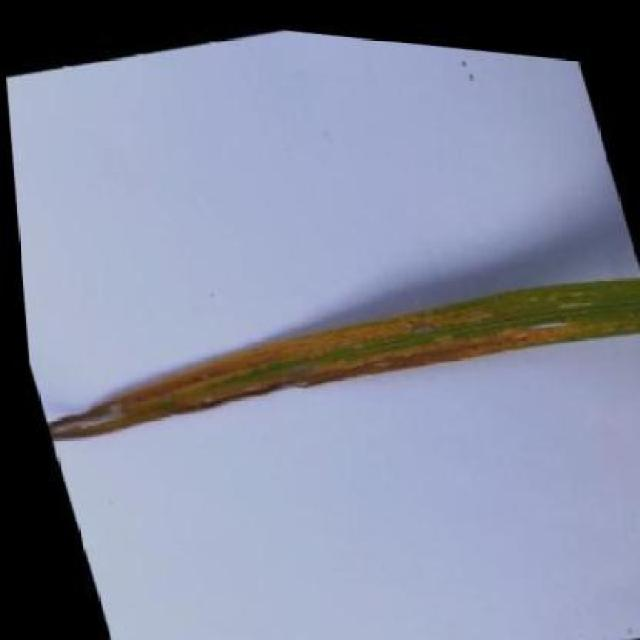Rice False Smut: (42, 263, 640, 439)
